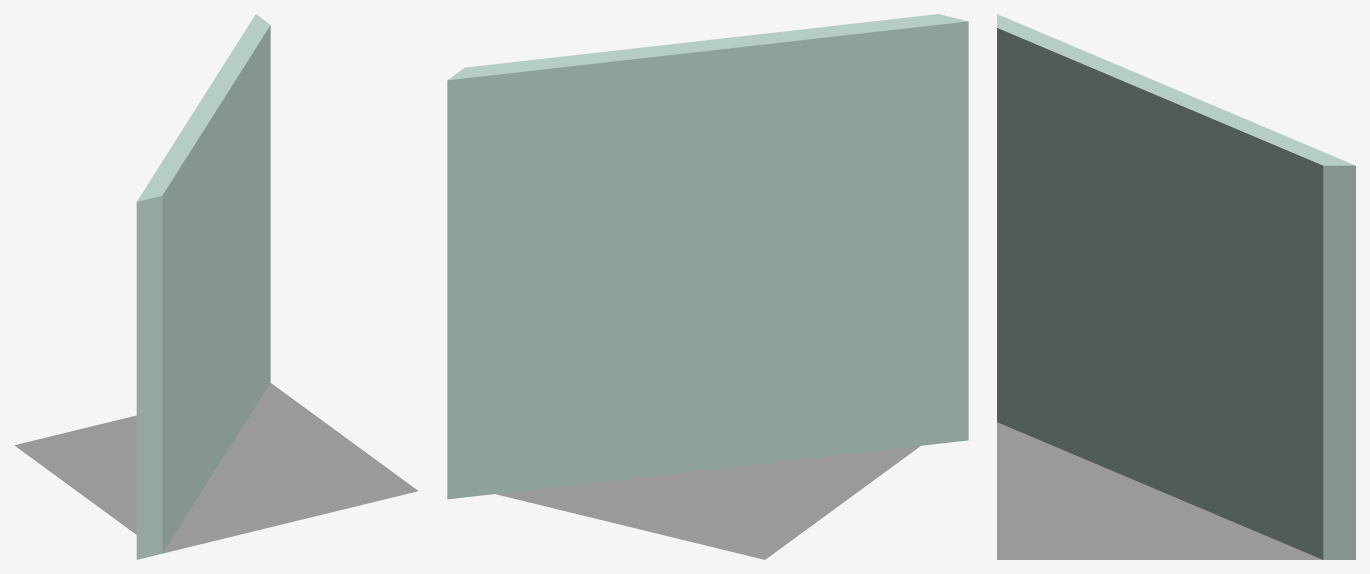
Rendered from Corner Tile.fbx.
The picture shows the model from 3 angles, left to right: view 1: azimuth 30°, elevation 25°; view 2: azimuth 150°, elevation 25°; view 3: azimuth 270°, elevation 25°; orthographic projection. The views are drawn at different scales.
Parts seen in each view (by area): view 1: polySurface21; view 2: polySurface21; view 3: polySurface21.
Part boxes in pixels (x1,y1,x2,y2): polySurface21: (14, 14, 418, 559); polySurface21: (447, 14, 968, 559); polySurface21: (997, 14, 1355, 559).
Size of the model in its own units: 3.3 by 4 by 3.3.
